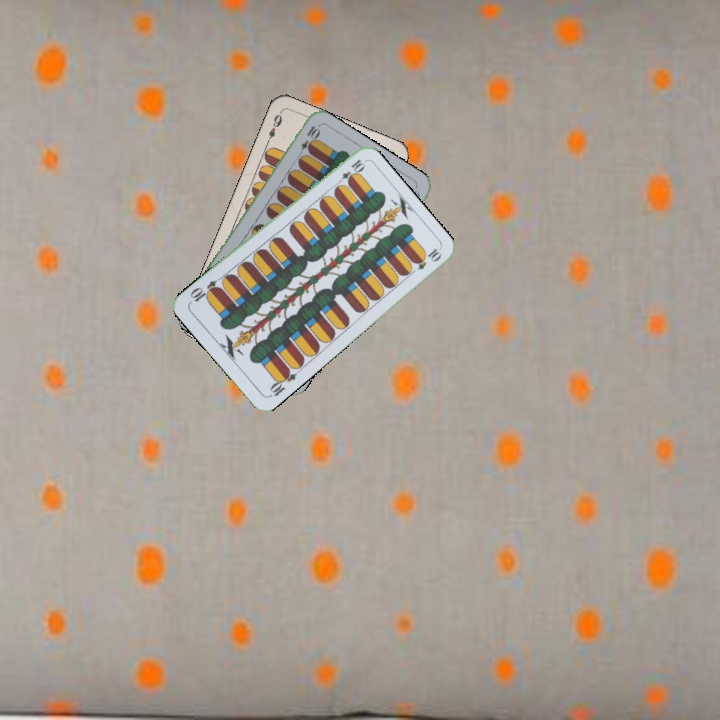E10: (332, 155, 367, 189), (265, 365, 299, 400), (294, 122, 322, 160)
E9: (262, 110, 285, 147)
